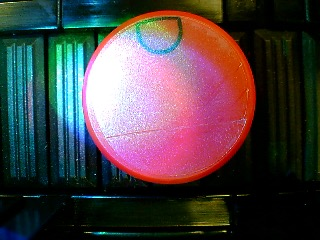MIPO1: (81, 9, 257, 185)
